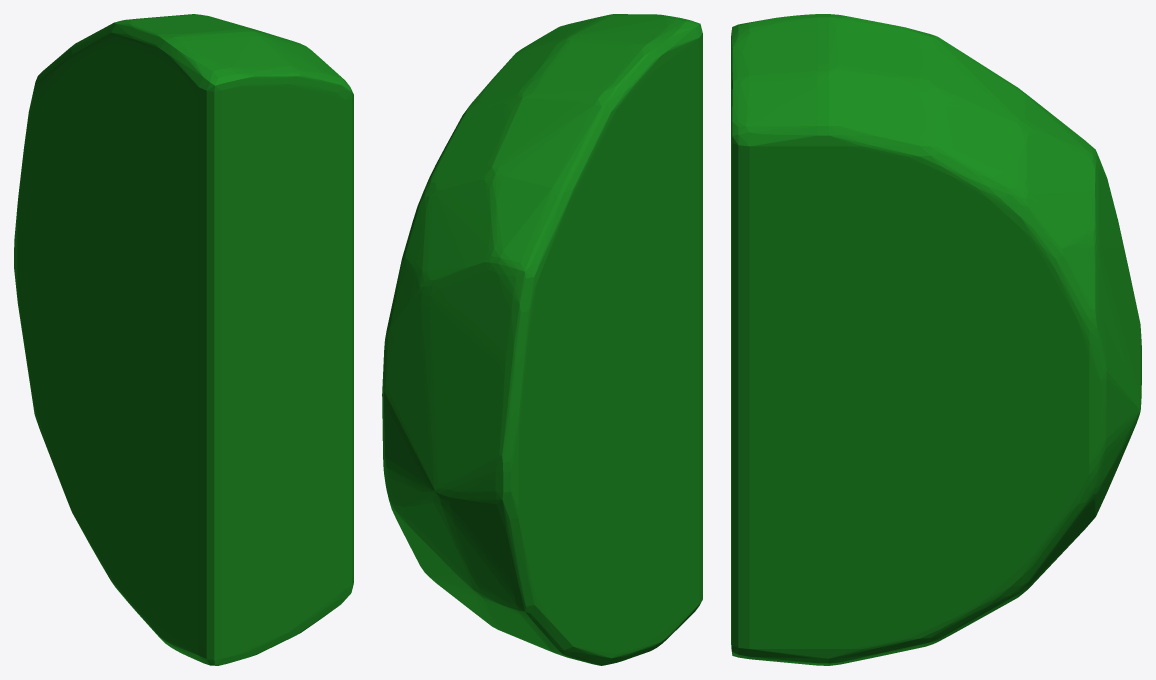
Rendered from right_th_proximal_part_8.obj.
The picture shows the model from 3 angles, left to right: view 1: azimuth 30°, elevation 25°; view 2: azimuth 150°, elevation 25°; view 3: azimuth 270°, elevation 25°; orthographic projection. The views are drawn at different scales.
Size of the model in its own units: 6.89 by 26.24 by 15.69.
